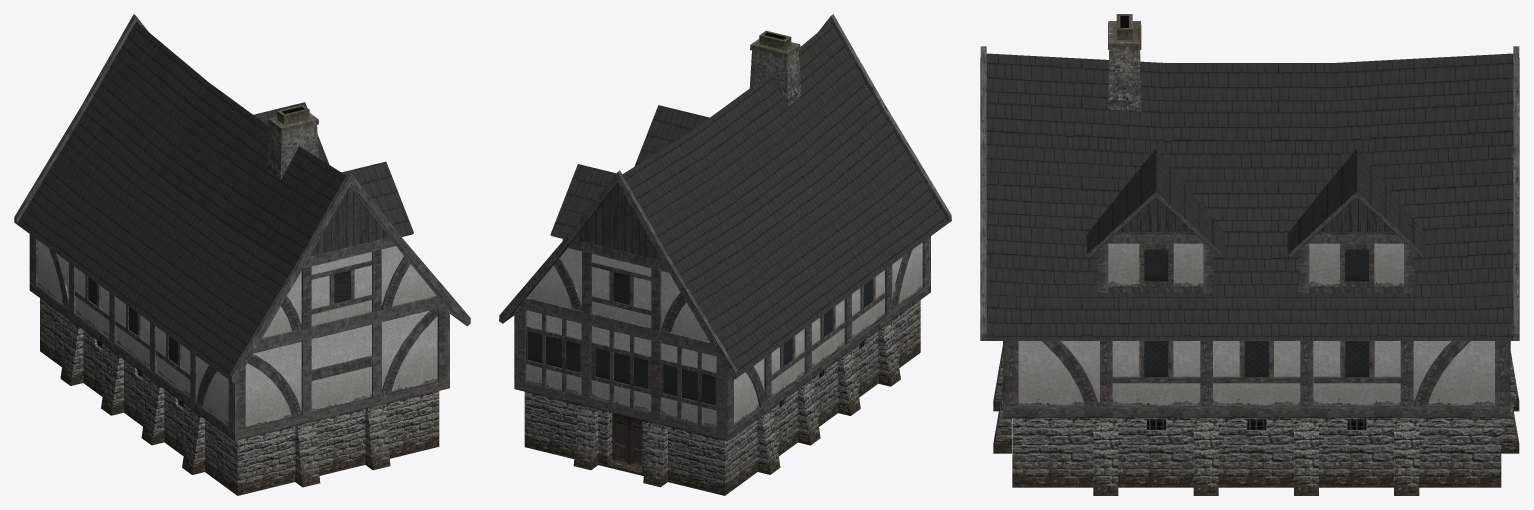
File: poorfolks_tavern.obj
3 views of the same model, side by side, from view 1: azimuth 30°, elevation 25°; view 2: azimuth 150°, elevation 25°; view 3: azimuth 270°, elevation 25° (orthographic). The views are drawn at different scales.
Parts seen in each view (by area): view 1: poorfolks_tavern; view 2: poorfolks_tavern; view 3: poorfolks_tavern.
Part boxes in pixels (x1=…): poorfolks_tavern: x1=14, y1=14, x2=470, y2=495; poorfolks_tavern: x1=499, y1=14, x2=951, y2=495; poorfolks_tavern: x1=980, y1=14, x2=1519, y2=495.
Bounding box in the file's own units: 871 × 1142 × 1376.
